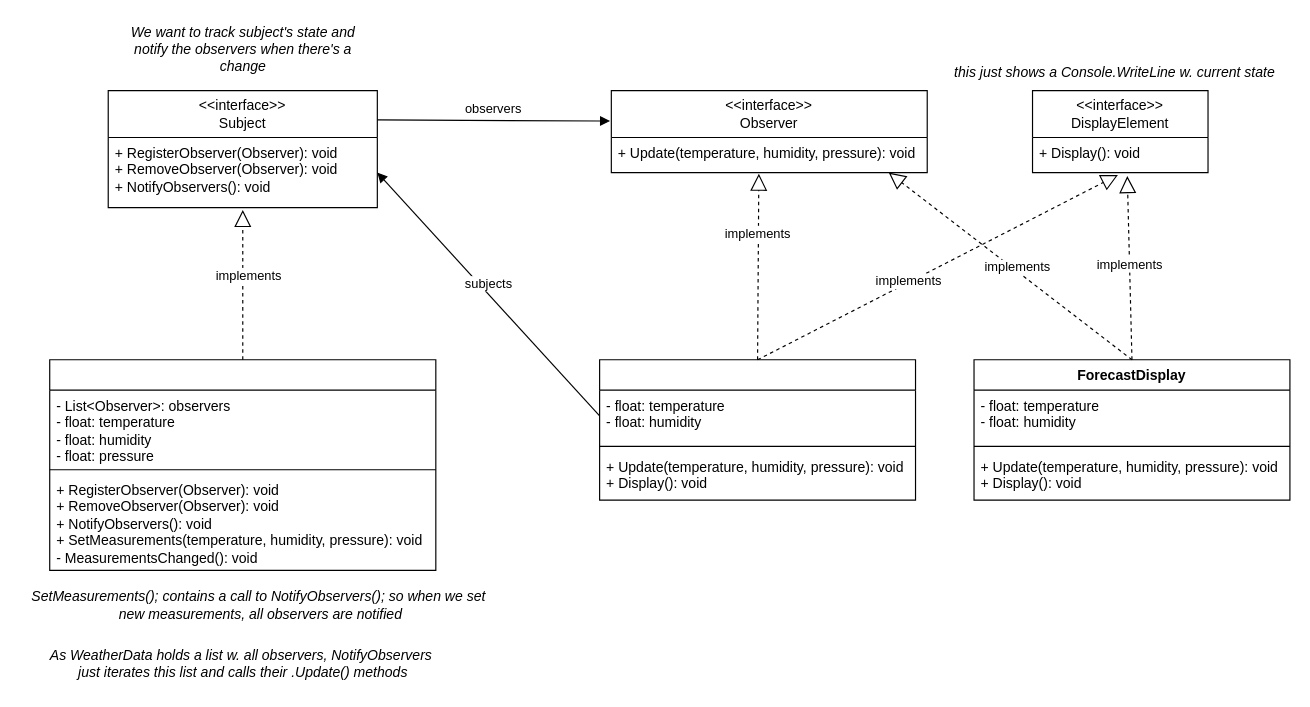
Image size: 1310x707. Some labels were removed from this diagram. The box of each missing label's shape, as (x1, y1, x2, y2) in pixels:
CurrentConditionsDisplay: (598, 359, 916, 500)
WeatherData: (49, 359, 436, 570)
